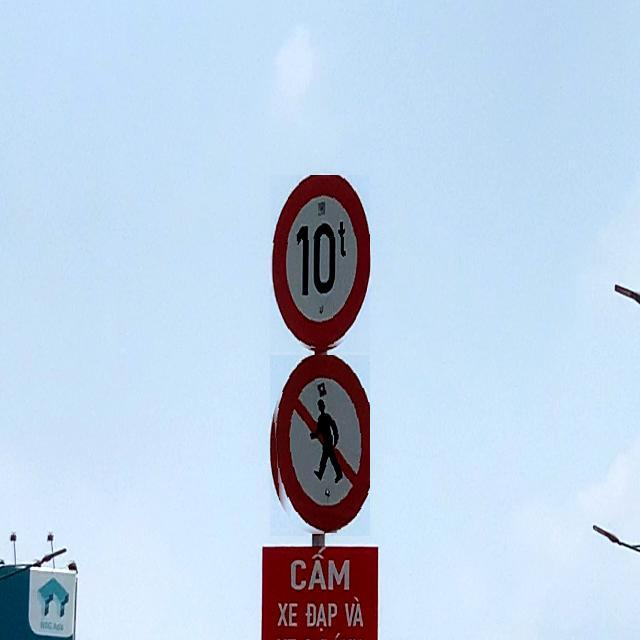P-112: (270, 355, 370, 536)
P-115: (271, 175, 371, 352)
